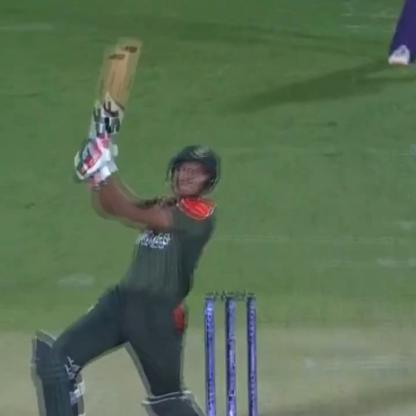bat: (89, 31, 140, 160)
